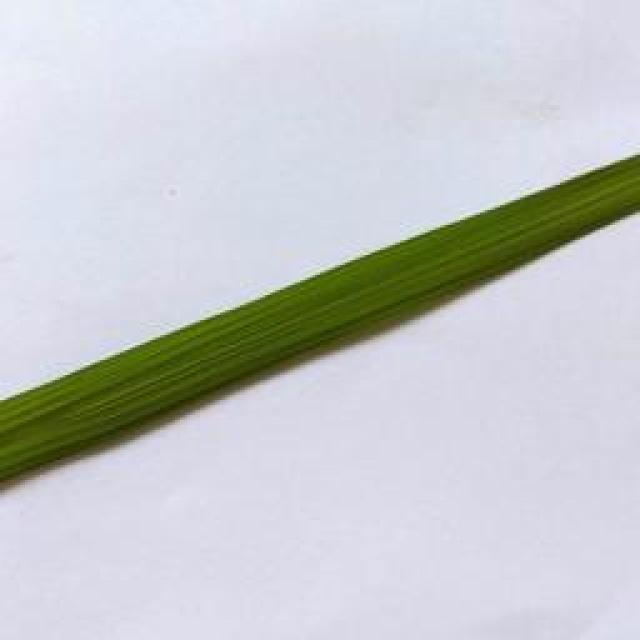Healthy-Plant: (0, 152, 640, 486)
